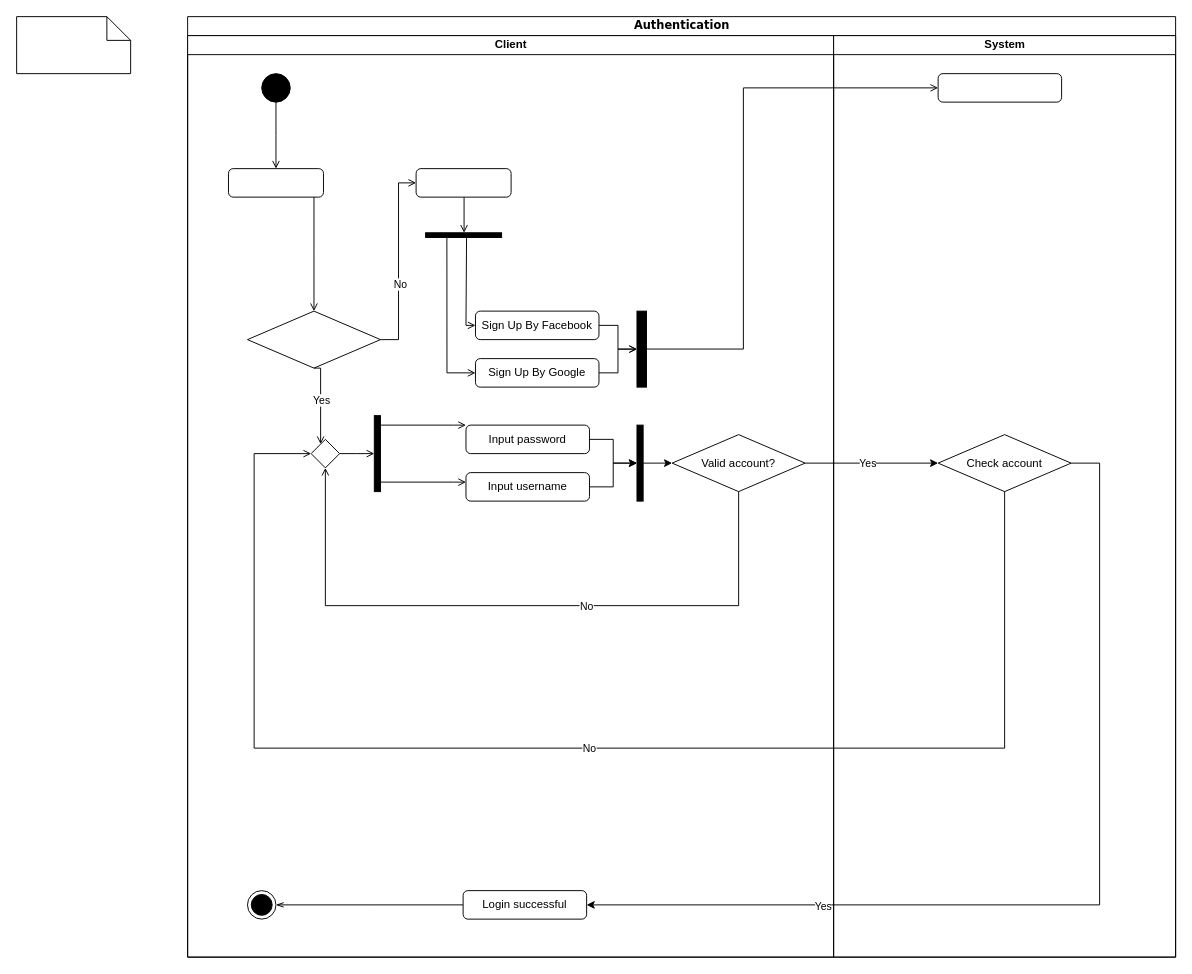
This 1192x974 diagram has some shape labels left out. Each missing label, with the centre of its shape:
"Create new account" goes at point (999, 87).
"Have an account?" goes at point (313, 339).
"Module Authntication" goes at point (73, 45).
"Sign In" goes at point (275, 182).
"Sign Up" goes at point (463, 182).
